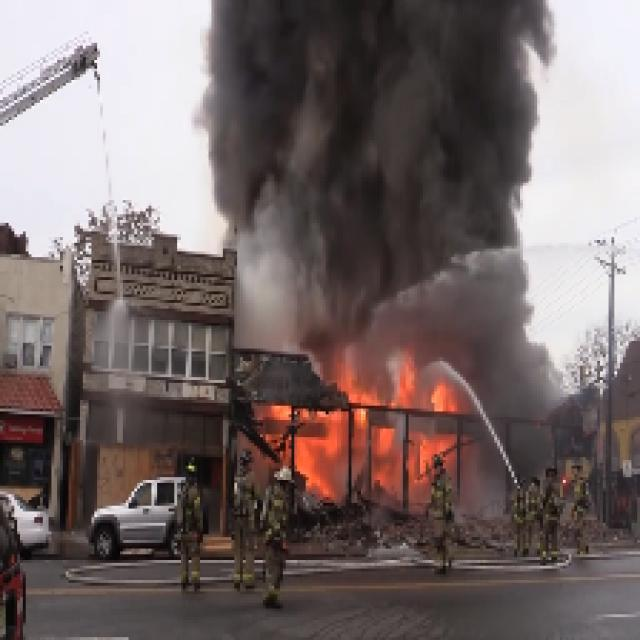Fire: (256, 340, 464, 518)
Smoke: (238, 4, 516, 246)
